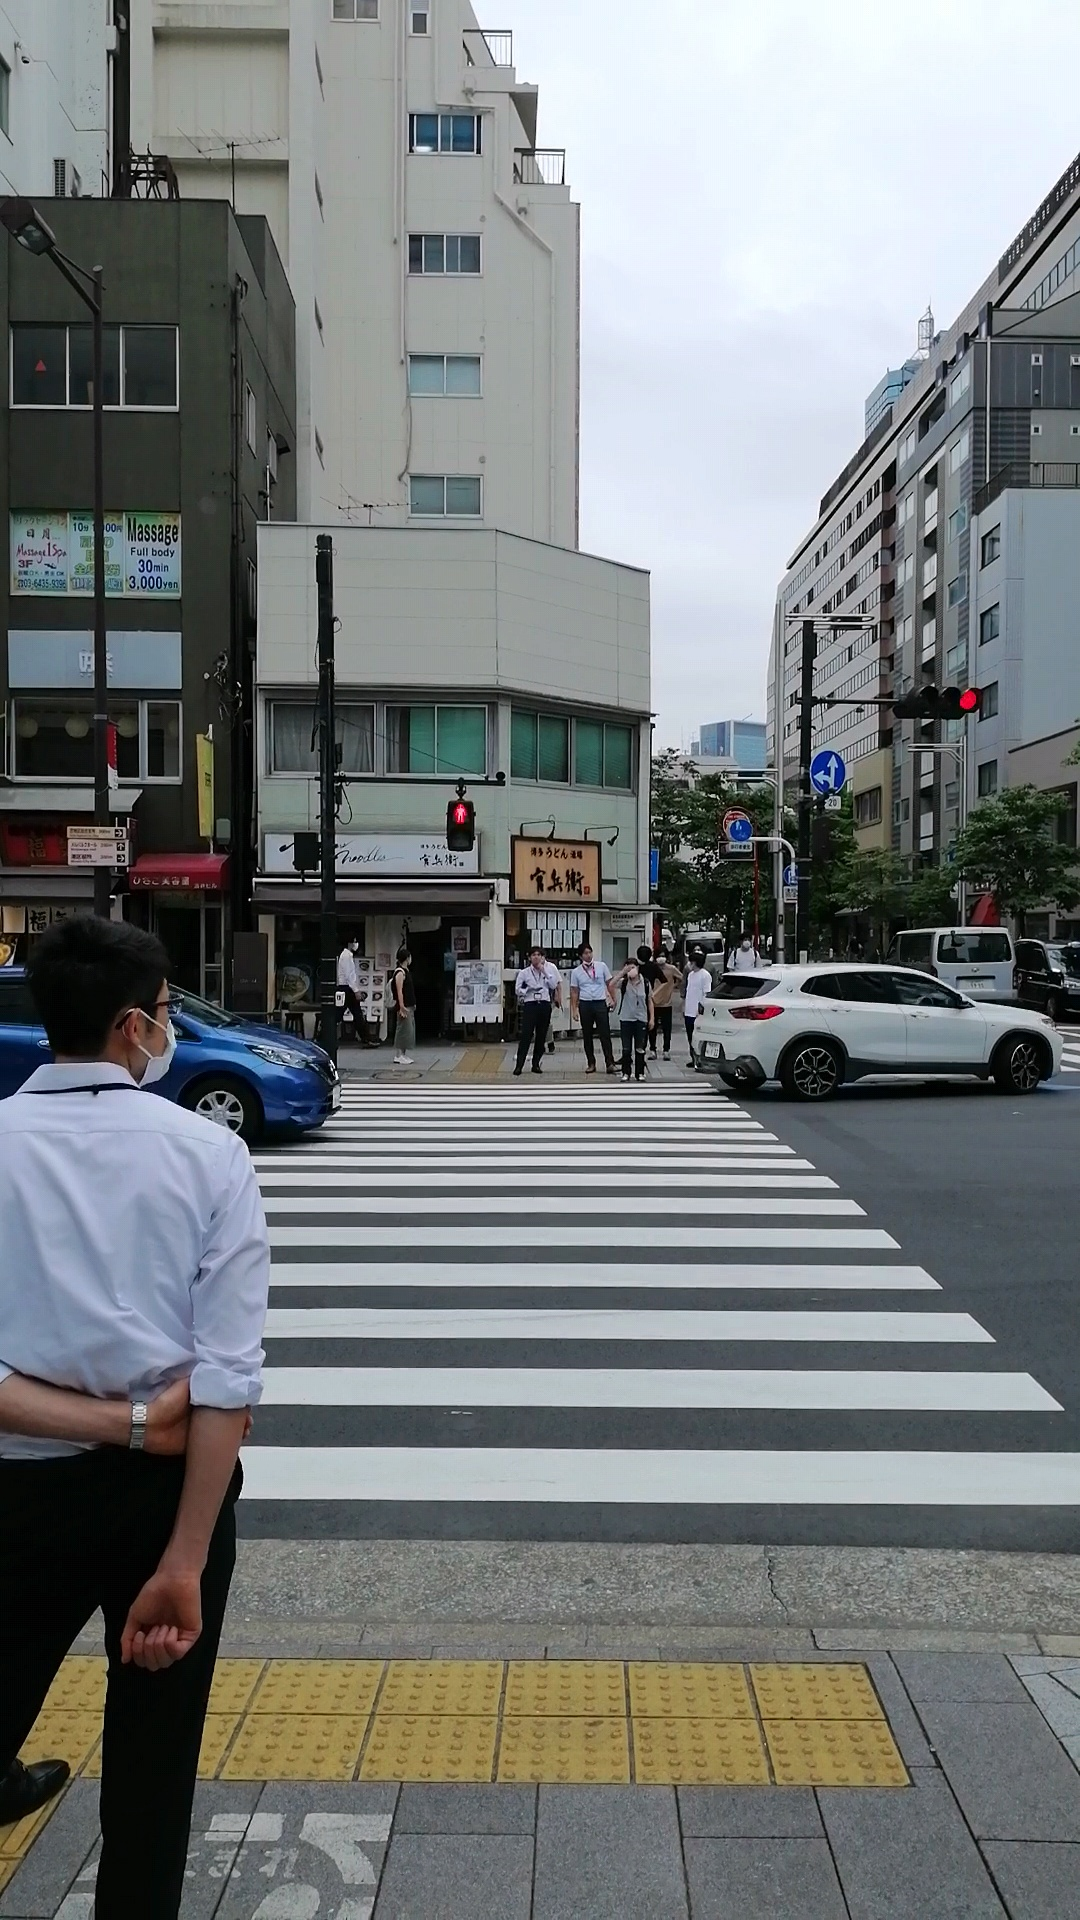red: (447, 799, 475, 851)
